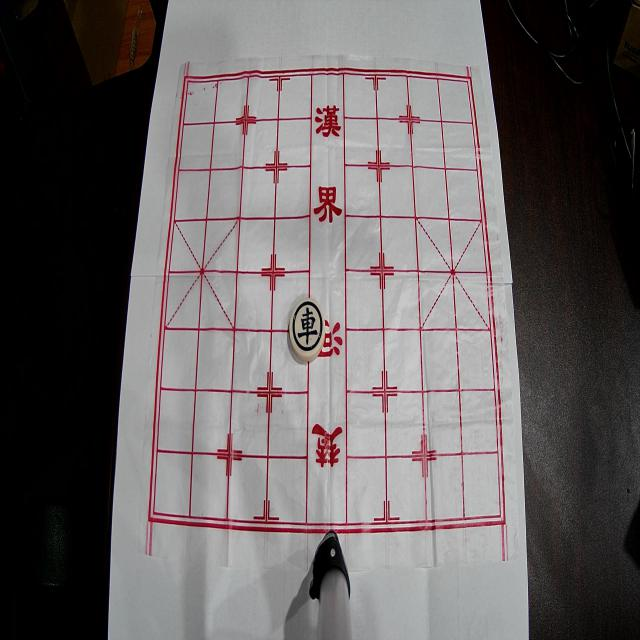black-chariot: (289, 298, 325, 361)
